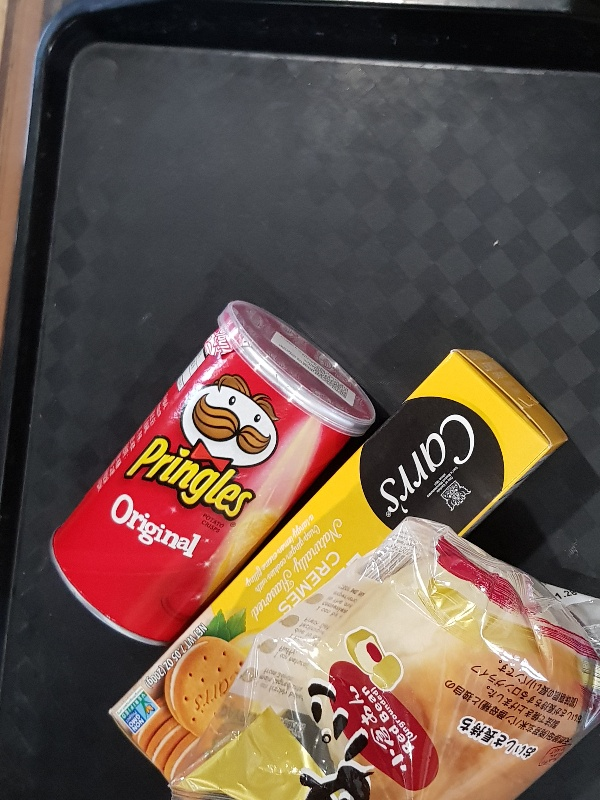Carr's Ginger Lemon Cremes: (107, 346, 568, 784)
Dayplus Red Bean: (167, 517, 600, 797)
Pringles Original: (49, 299, 377, 645)
